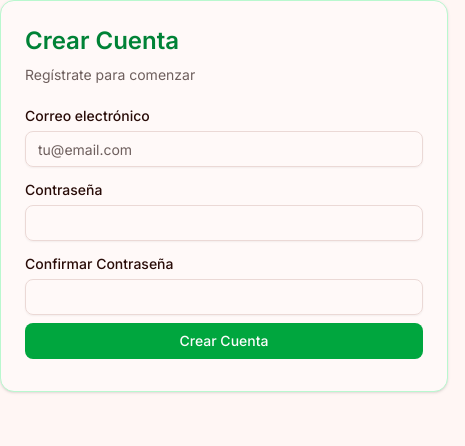
Test: SignUpForm Component › debería validar que la contraseña tenga al menos 6 caracteres
Step 1. Type "test@example.com" into the field labelled "Correo electrónico" → (224, 149), box x1=25 y1=131 x2=423 y2=167
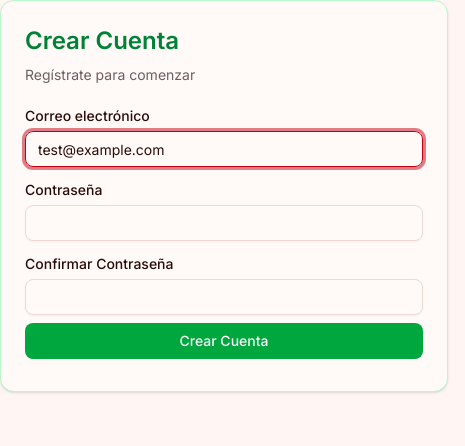
Step 2. Type "pass" into the password field labelled "Contraseña" → (224, 223), box x1=25 y1=205 x2=423 y2=241
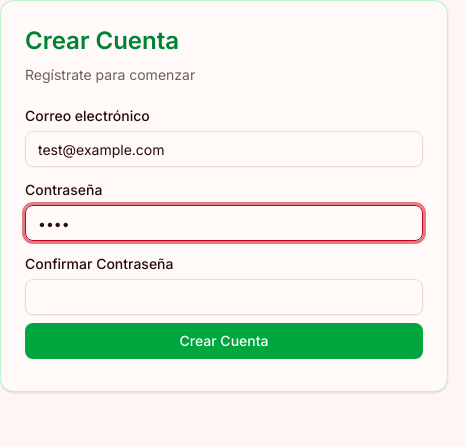
Step 3. Type "pass" into the password field labelled "Confirmar Contraseña" → (224, 297), box x1=25 y1=279 x2=423 y2=315
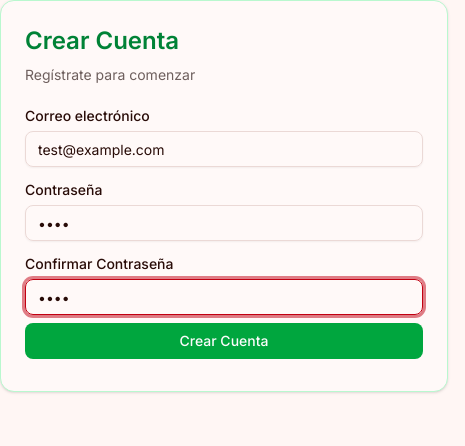
Step 4. Click the button "Crear Cuenta" → (224, 341), box x1=25 y1=323 x2=423 y2=359
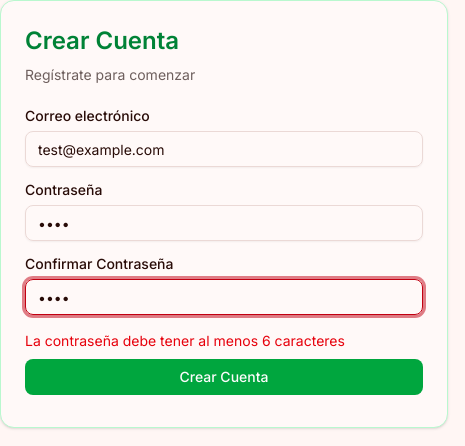
Now the text "La contraseña debe tener al menos 6 caracteres" is shown, box x1=25 y1=332 x2=345 y2=349
